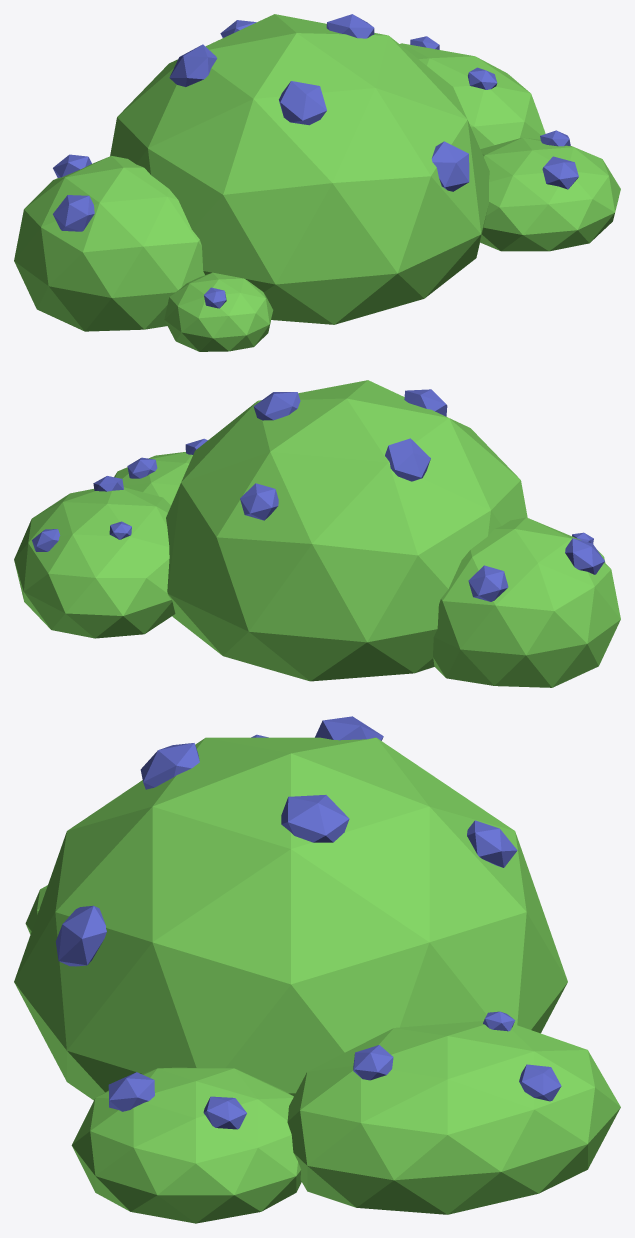
File: FruitBushBlue.fbx
3 renders of one model, top to bottom at view 1: azimuth 30°, elevation 25°; view 2: azimuth 150°, elevation 25°; view 3: azimuth 270°, elevation 25°, orthographic. The views are drawn at different scales.
Visible parts, largest first — view 1: Icosphere.003; view 2: Icosphere.003; view 3: Icosphere.003.
Boxes of the visible parts, bbox=[...] form: Icosphere.003: bbox=[14, 14, 620, 351]; Icosphere.003: bbox=[14, 380, 620, 687]; Icosphere.003: bbox=[14, 716, 620, 1223].
Size of the model in its own units: 394 by 153 by 278.
